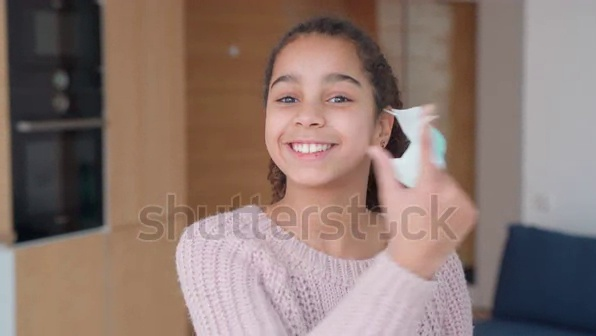No Mask: (259, 116, 373, 185)
